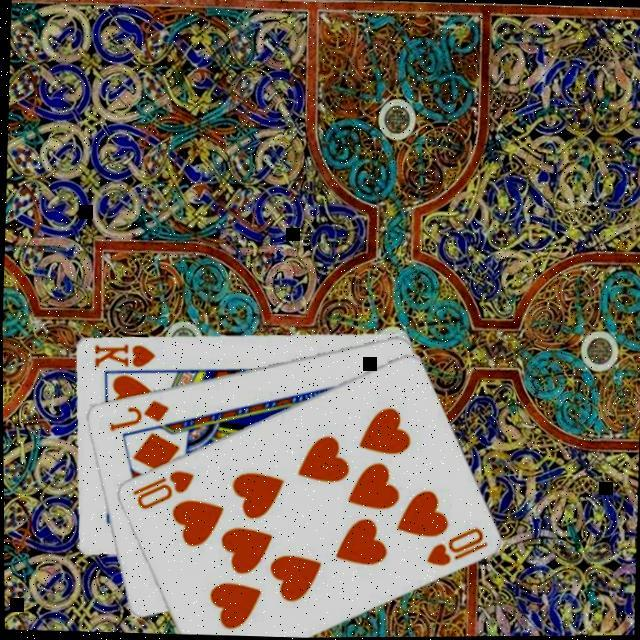10H: (128, 466, 198, 514), (422, 524, 492, 572)
JD: (106, 395, 173, 437)
KH: (90, 340, 159, 371)
